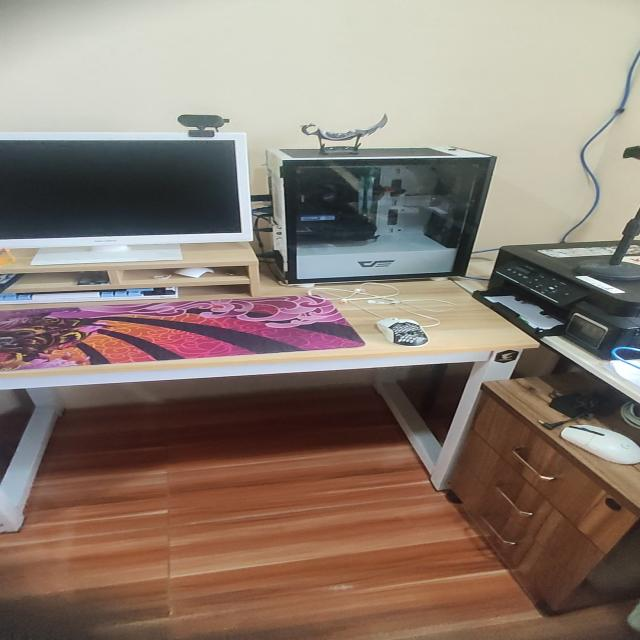table: (0, 268, 553, 536)
